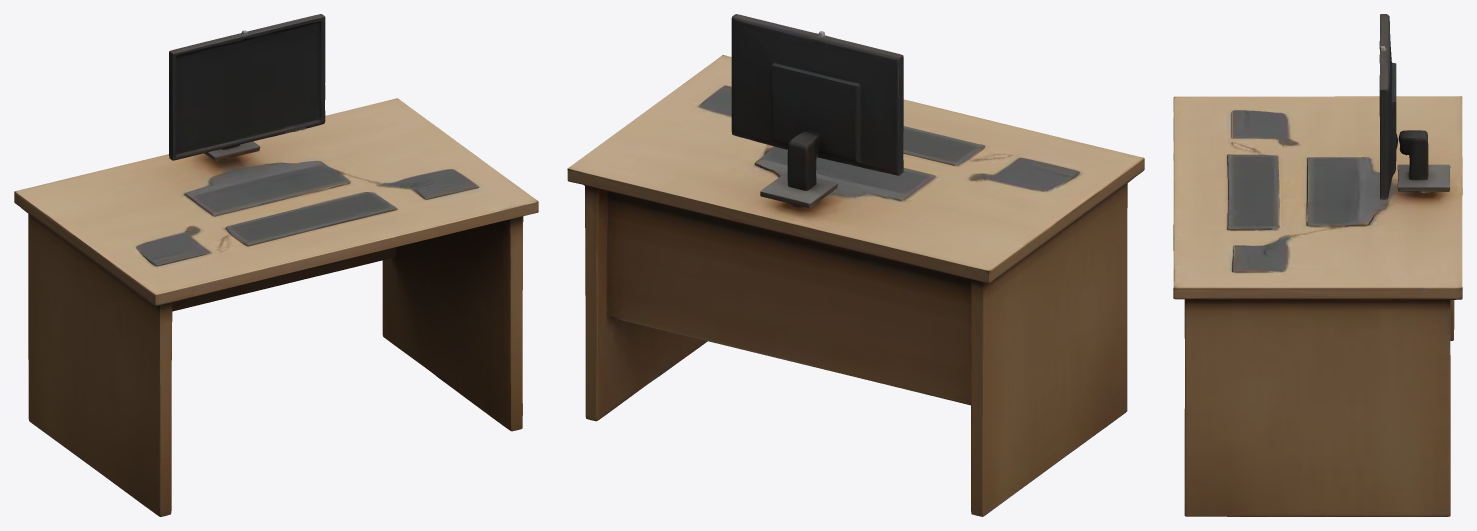
The model's file is desk_and_monitor.glb.
3 views of the same model, side by side, from view 1: azimuth 30°, elevation 25°; view 2: azimuth 150°, elevation 25°; view 3: azimuth 270°, elevation 25° (orthographic). The views are drawn at different scales.
Visible parts, largest first — view 1: geometry_0; view 2: geometry_0; view 3: geometry_0.
Part boxes in pixels (x1,y1,x2,y2): geometry_0: (14,14,538,516); geometry_0: (567,14,1144,516); geometry_0: (1173,14,1462,516).
Size of the model in its own units: 1 by 0.9268 by 0.6385.
Materials: 1 (1 with a texture image).
